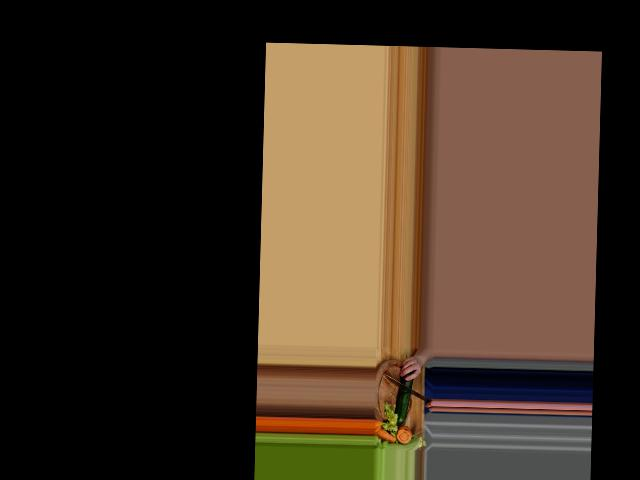cucumber: (395, 370, 413, 424)
